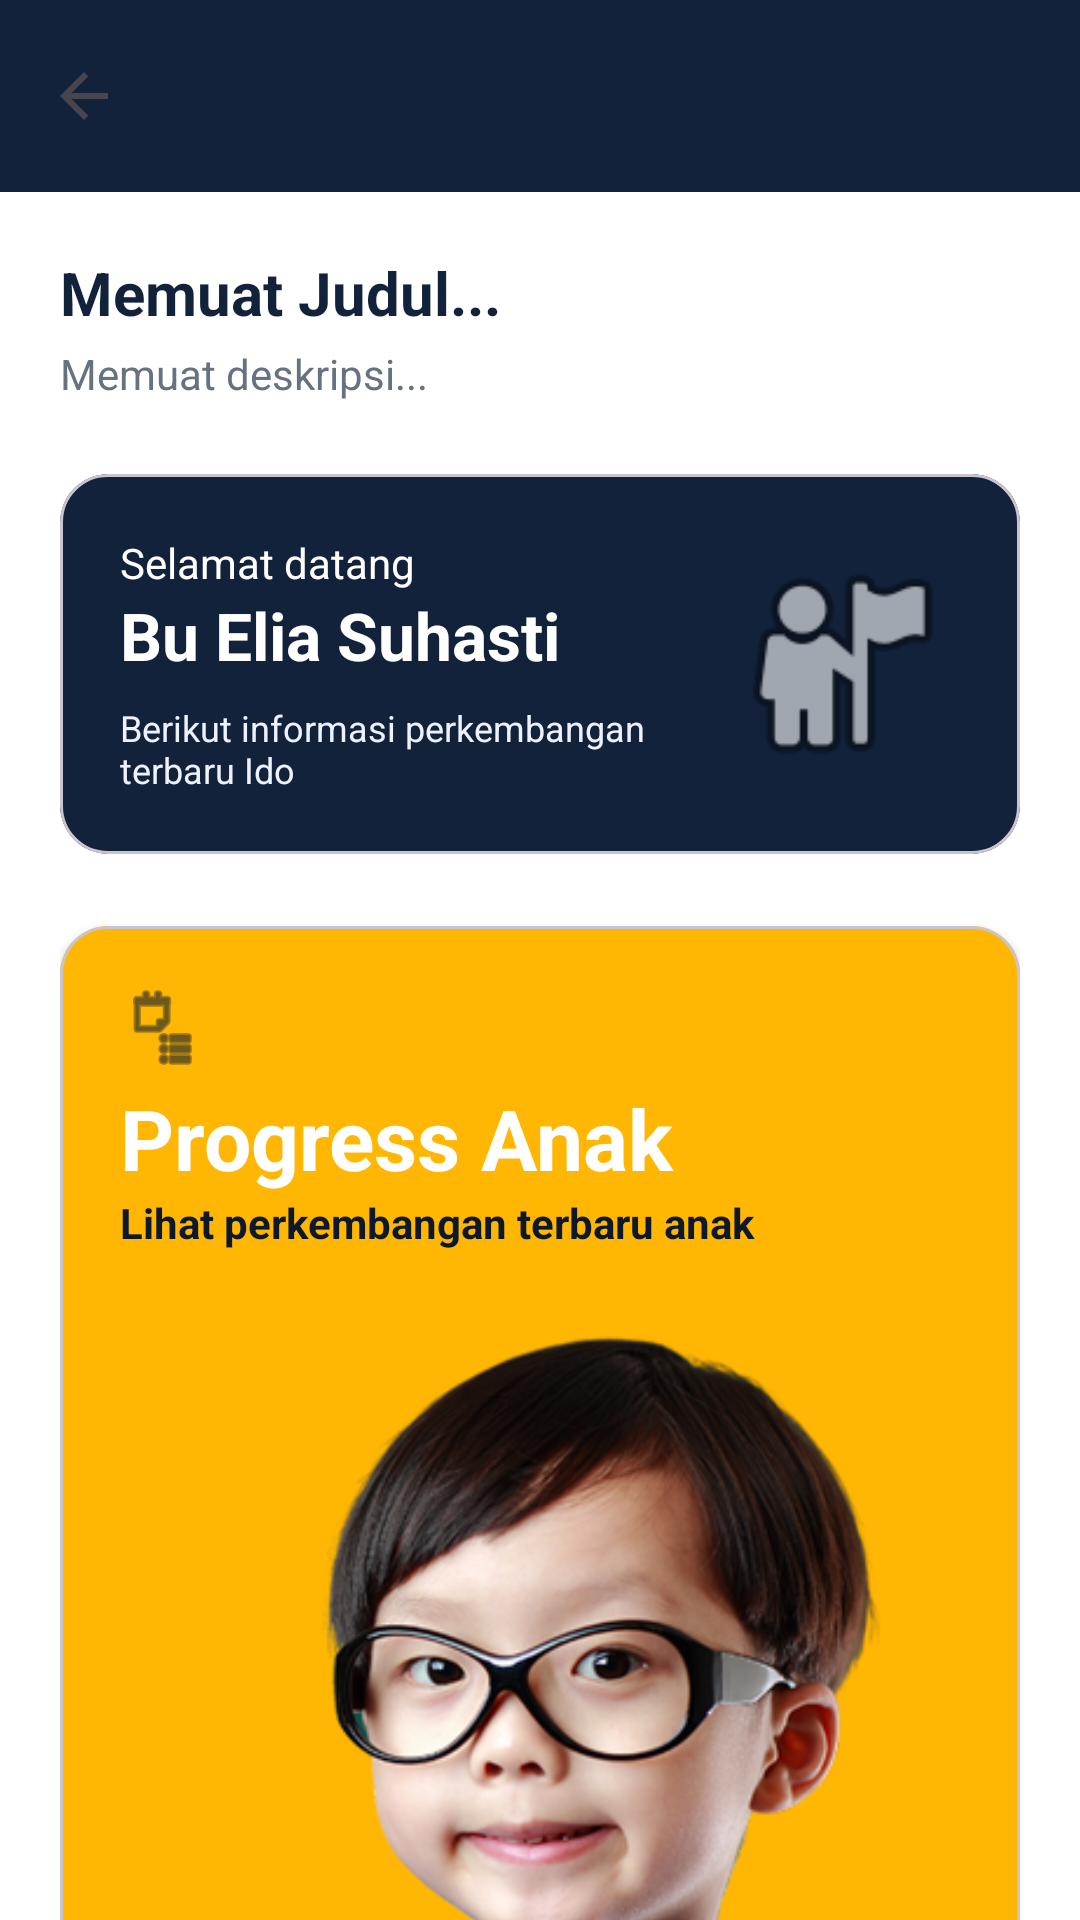

Icon bounding boxes for this 1080 x 1920 phone screenshot, format (x1, y1, x2, y2):
agenda: (133, 990, 192, 1065)
